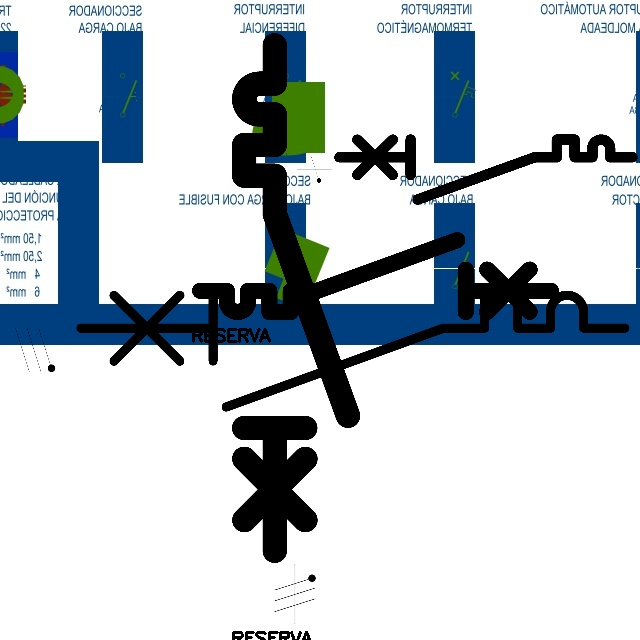interruptor_termomagnetico: (66, 281, 638, 421), (231, 32, 361, 564), (191, 231, 560, 321), (331, 132, 639, 207)
